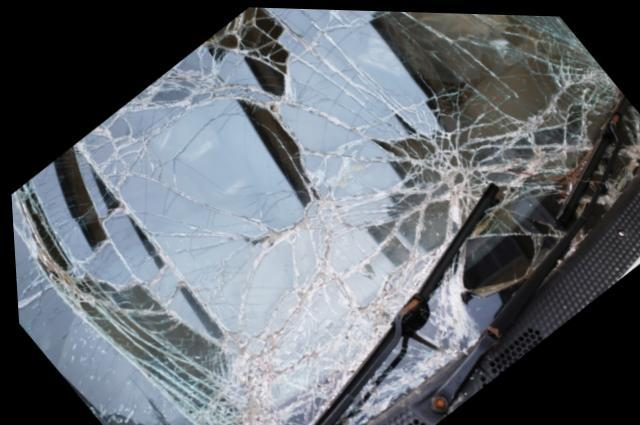glass shatter: (9, 6, 640, 425)
